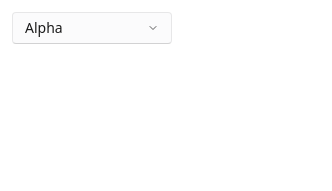
Test: ComboBox › closes on Escape without changing the value
The width and height of the screenshot is (332, 191).
Click the dropdown: (92, 28) [12, 12, 172, 44]
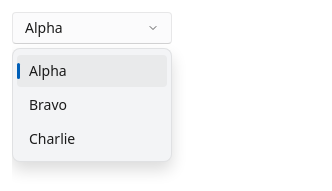
Press End in the list, box [12, 48, 172, 162]
Press Escape in the list, box [12, 48, 172, 162]
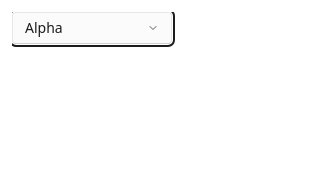
expect the list is gone: met
